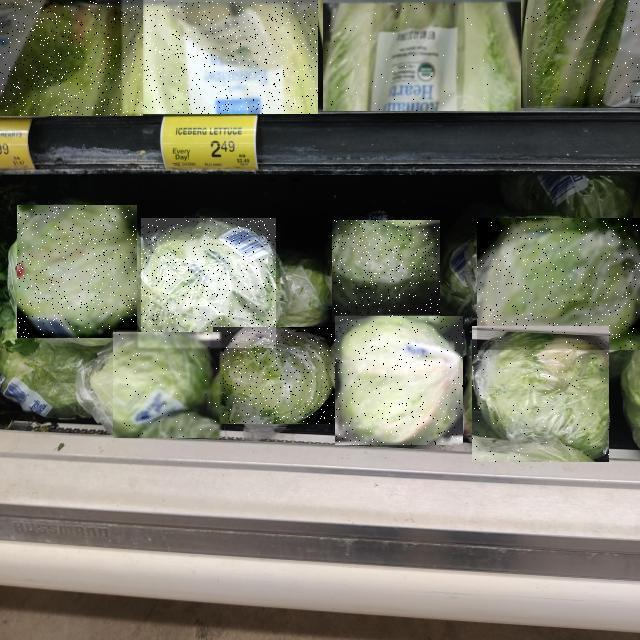Lettuce: (122, 0, 318, 114), (323, 0, 521, 111), (477, 219, 640, 351), (472, 326, 609, 462), (141, 218, 276, 348), (0, 0, 143, 116), (335, 316, 463, 445), (17, 205, 137, 338), (213, 327, 342, 424), (527, 0, 640, 106), (114, 332, 224, 438), (332, 220, 440, 322)
